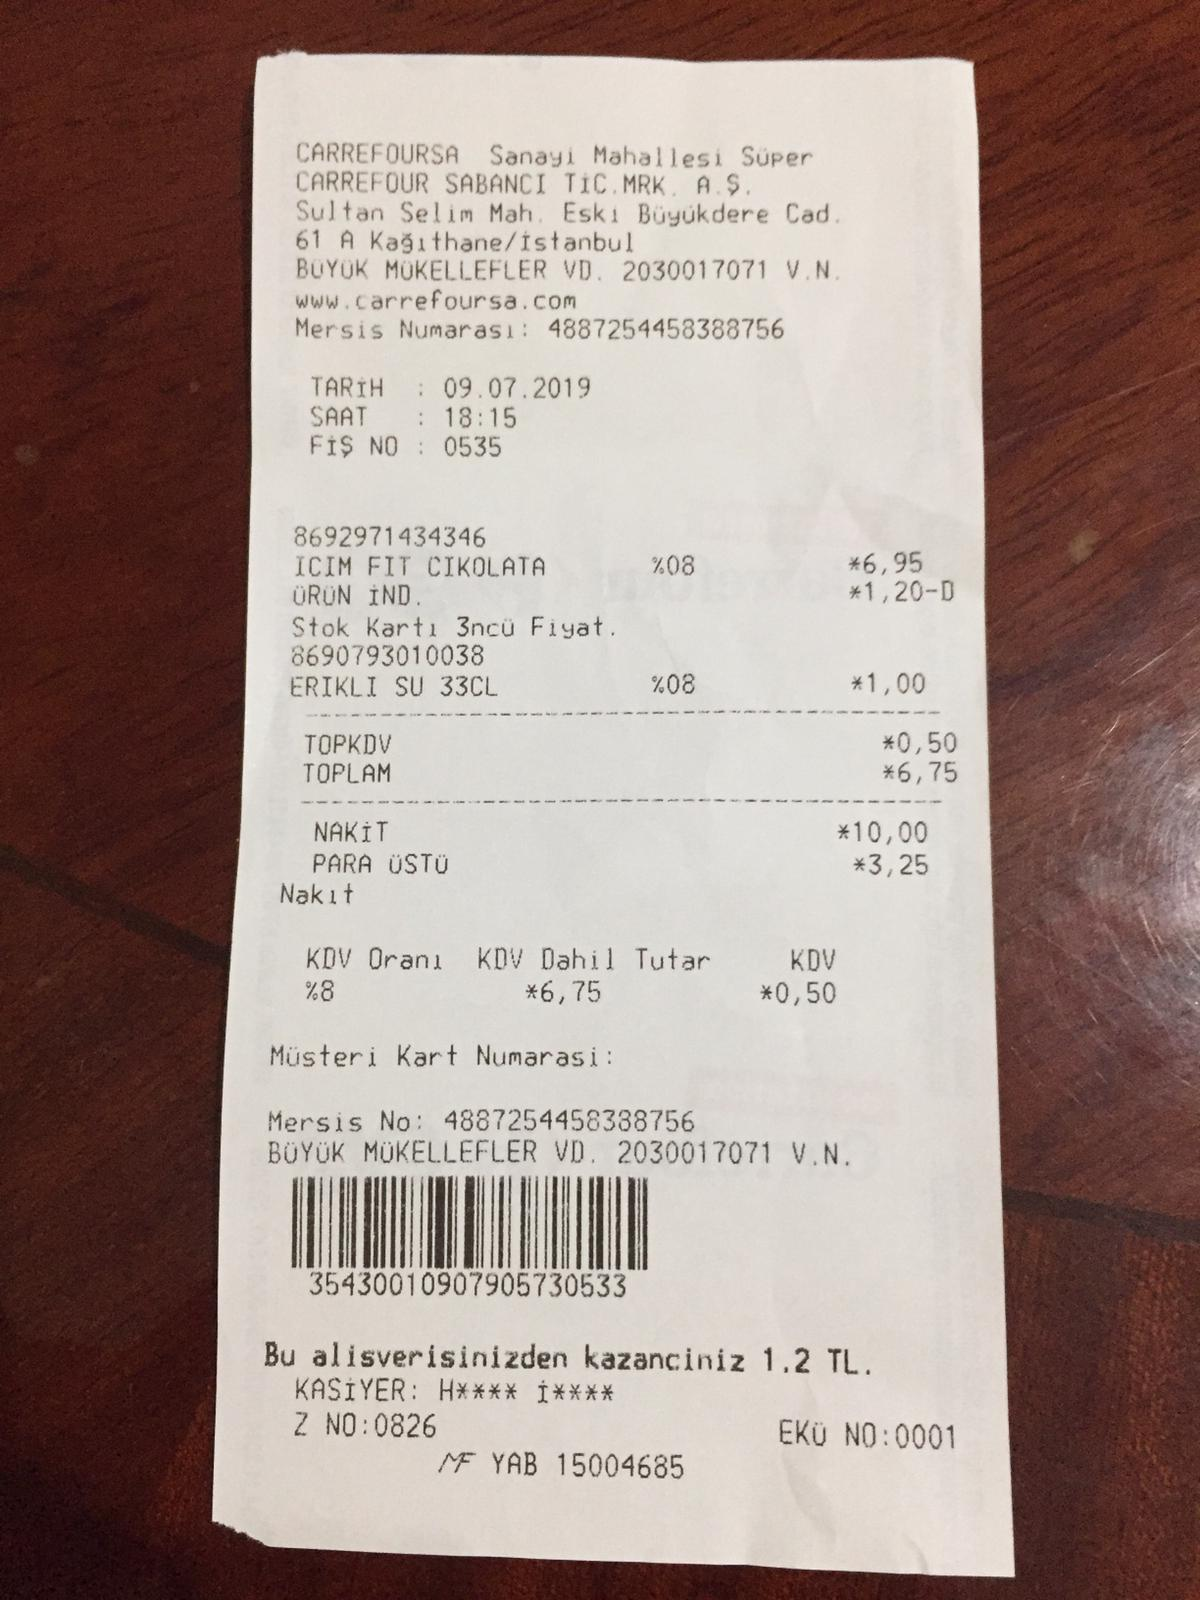total: (299, 757, 970, 794)
